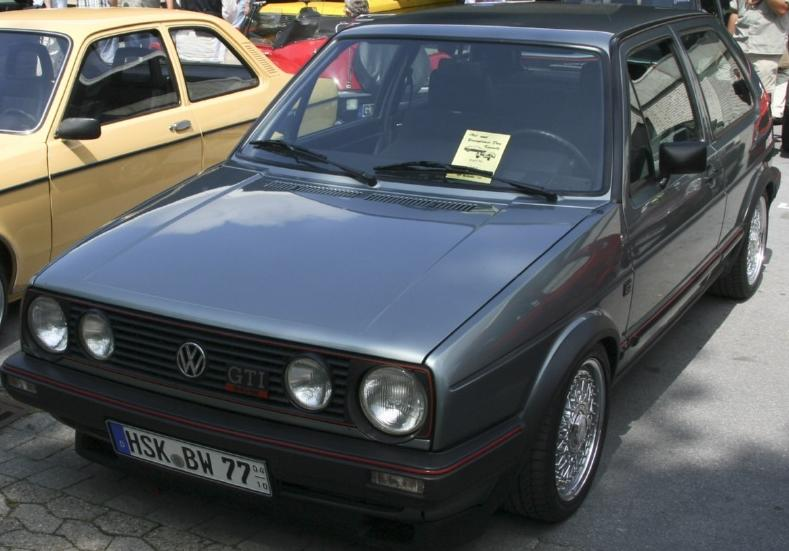front_view: (16, 275, 457, 532)
headlight: (275, 337, 441, 450)
side_glass: (619, 35, 750, 170)
